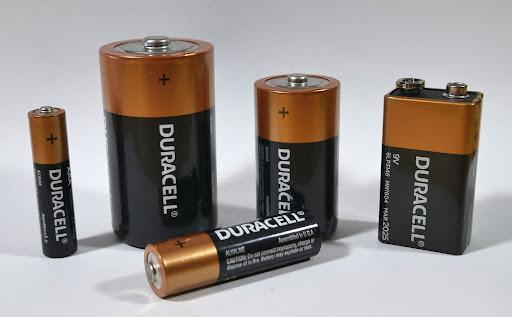AA: (142, 206, 323, 301)
AAA: (26, 103, 81, 262)
